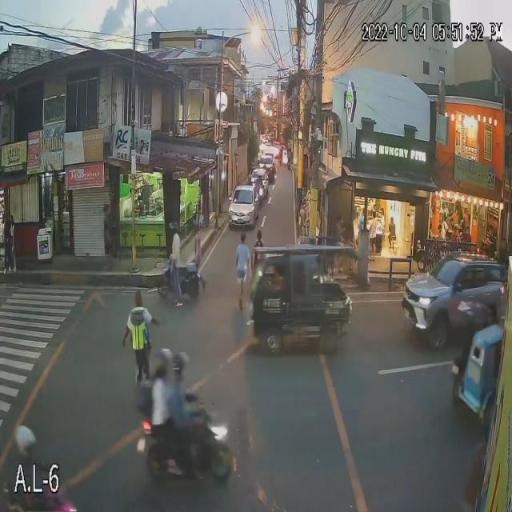helmet: (14, 426, 38, 459), (154, 350, 171, 376), (174, 352, 190, 377), (170, 222, 180, 232)
motorcycle: (138, 383, 236, 479), (2, 482, 77, 512), (159, 257, 199, 298)
rider: (173, 379, 205, 480), (6, 460, 38, 511), (150, 379, 172, 453), (171, 233, 184, 308)
